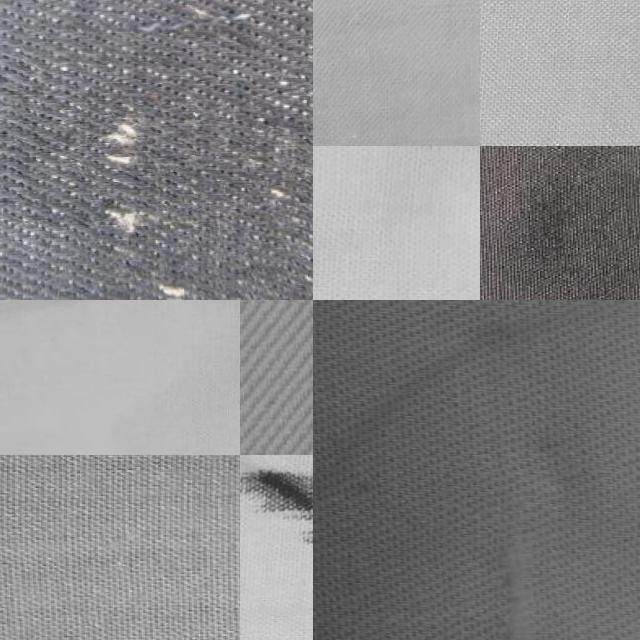Hole: (240, 454, 313, 640)
Thread_other: (442, 469, 612, 640)
